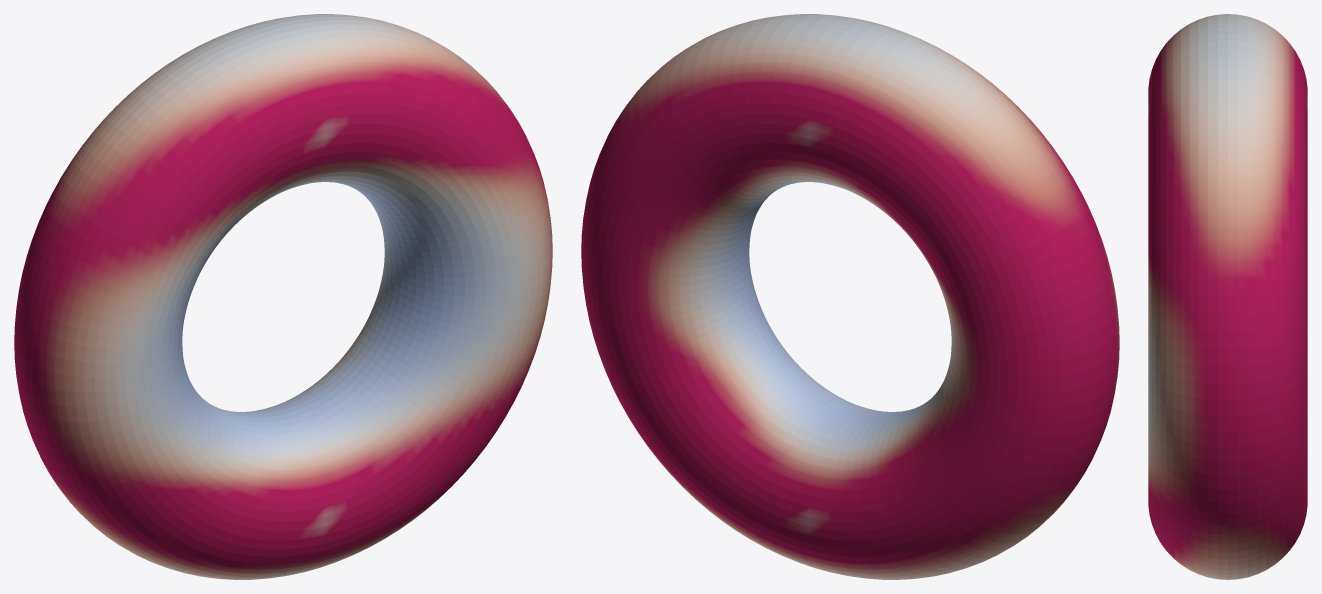
3 views of the same model, side by side, from view 1: azimuth 30°, elevation 25°; view 2: azimuth 150°, elevation 25°; view 3: azimuth 270°, elevation 25° (orthographic). The views are drawn at different scales.
Parts seen in each view (by area): view 1: world; view 2: world; view 3: world.
Boxes of the visible parts, <box> form: world: <box>14,14,552,579</box>; world: <box>581,14,1119,579</box>; world: <box>1148,14,1307,579</box>.
Bounding box in the file's own units: 26.93 × 26.93 × 7.59.
